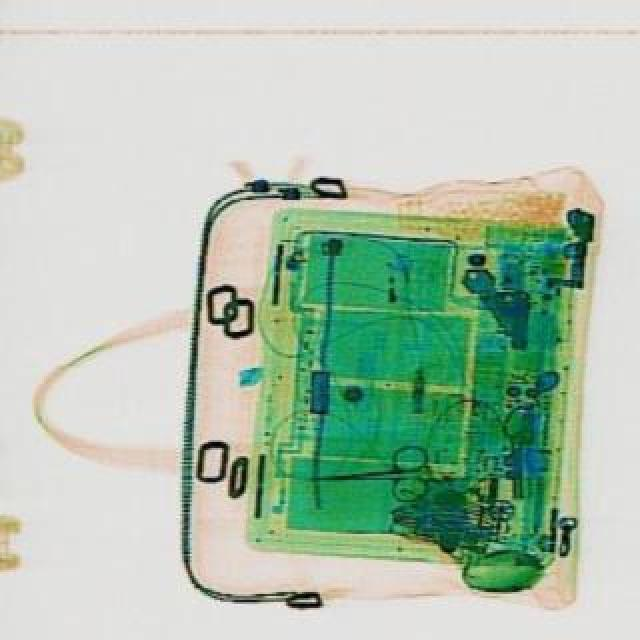pliers: (304, 444, 426, 504)
